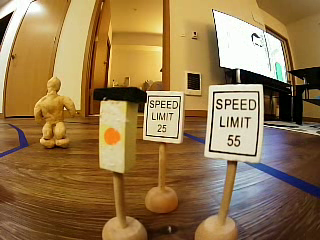person: (30, 67, 78, 150)
speed limit 25: (142, 81, 187, 150)
speed limit 55: (204, 74, 266, 165)
yellow traffic light: (90, 83, 137, 175)
